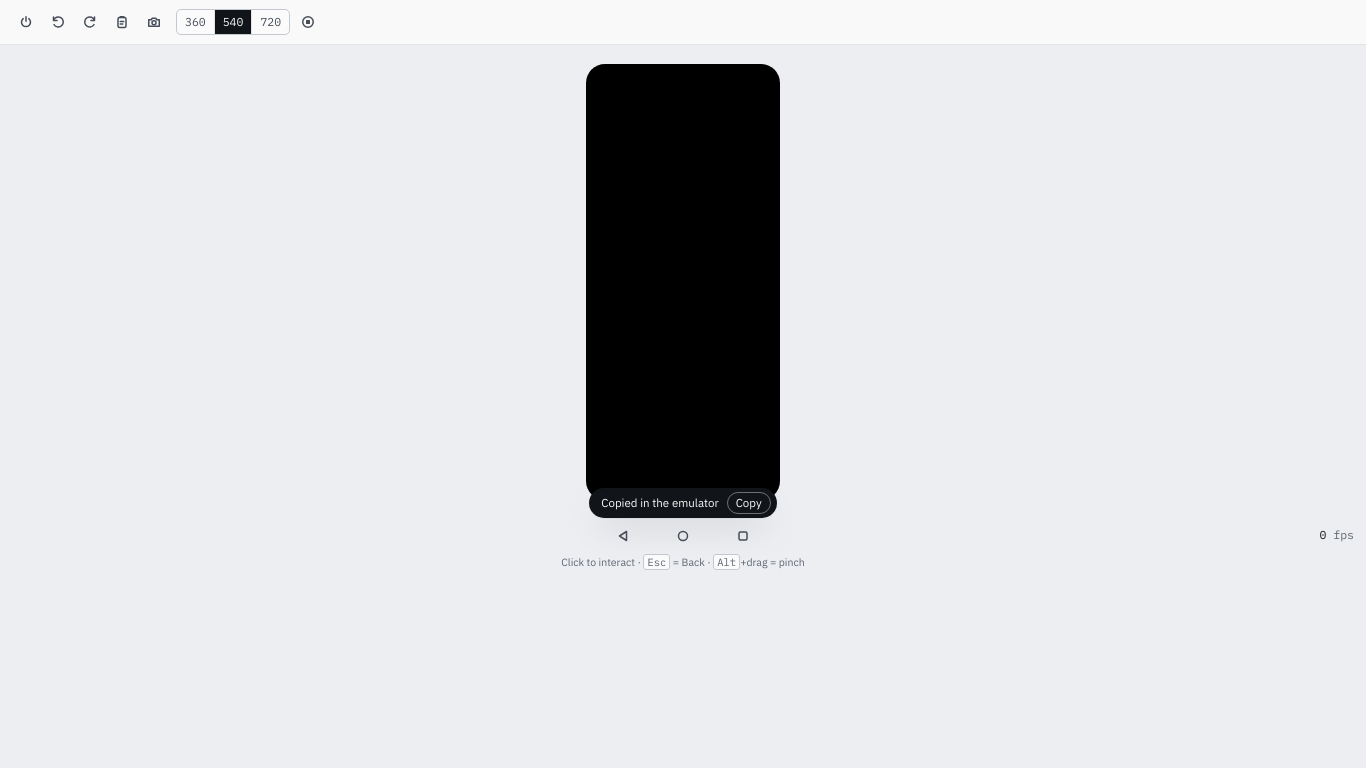
Test: Android → desktop › says so when even the Copy button can’t write
Click the button "Copy". click: (749, 503)
box: [727,492,771,514]
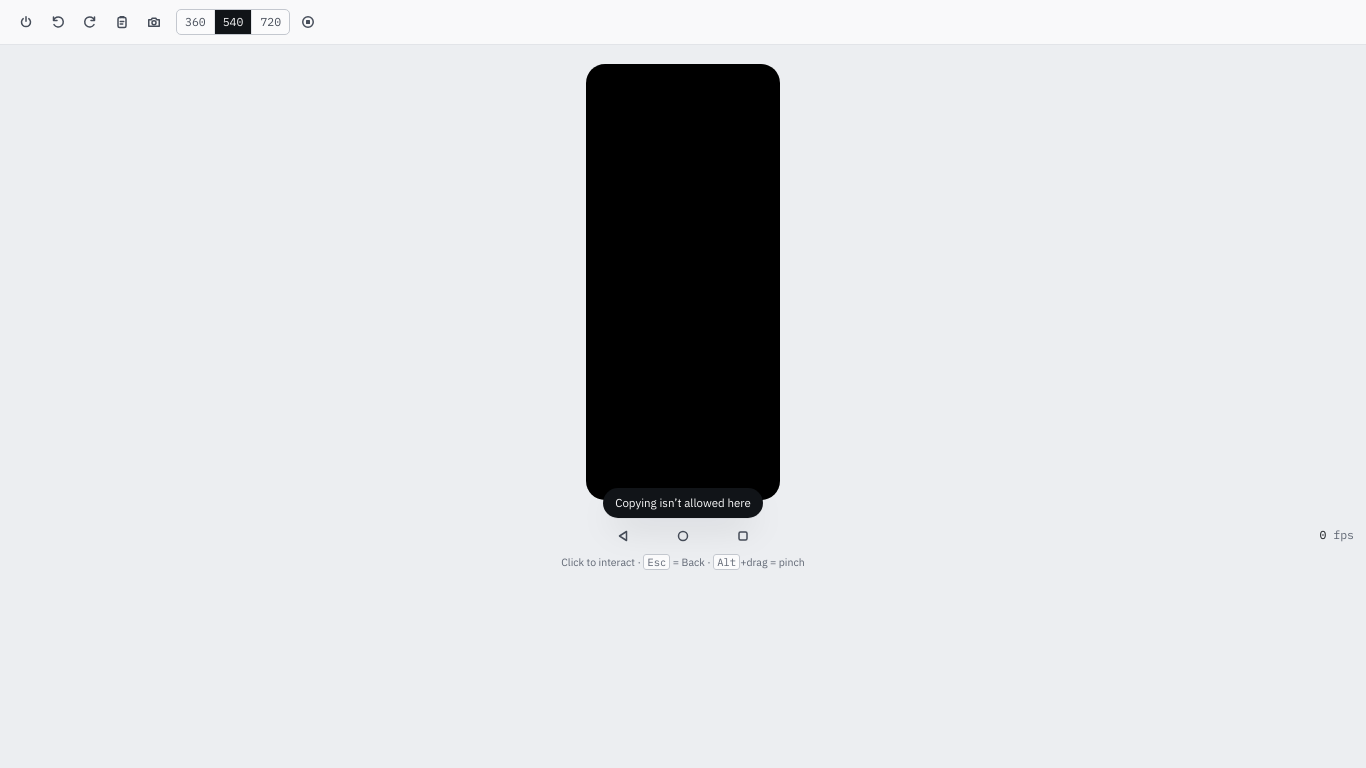
Now the text "Copying isn’t allowed here" is shown, box [603,488,763,518]
